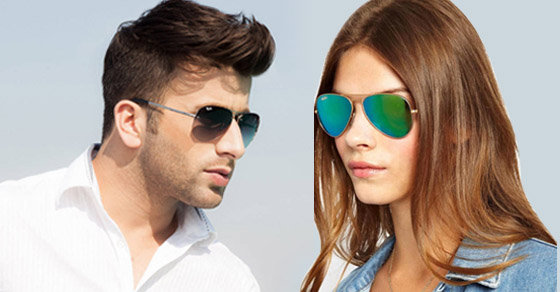sunglasses: (307, 94, 429, 141), (152, 103, 262, 147)
